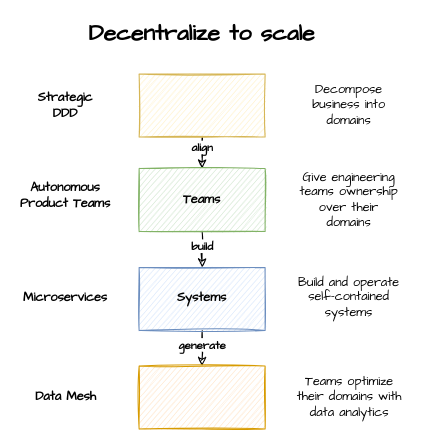
This 426x448 diagram has some shape labels left out. Here are the shapes that lost their labels. From the top down, the box of each, then its label:
(138, 73, 265, 137): Domains
(138, 365, 265, 429): Data
